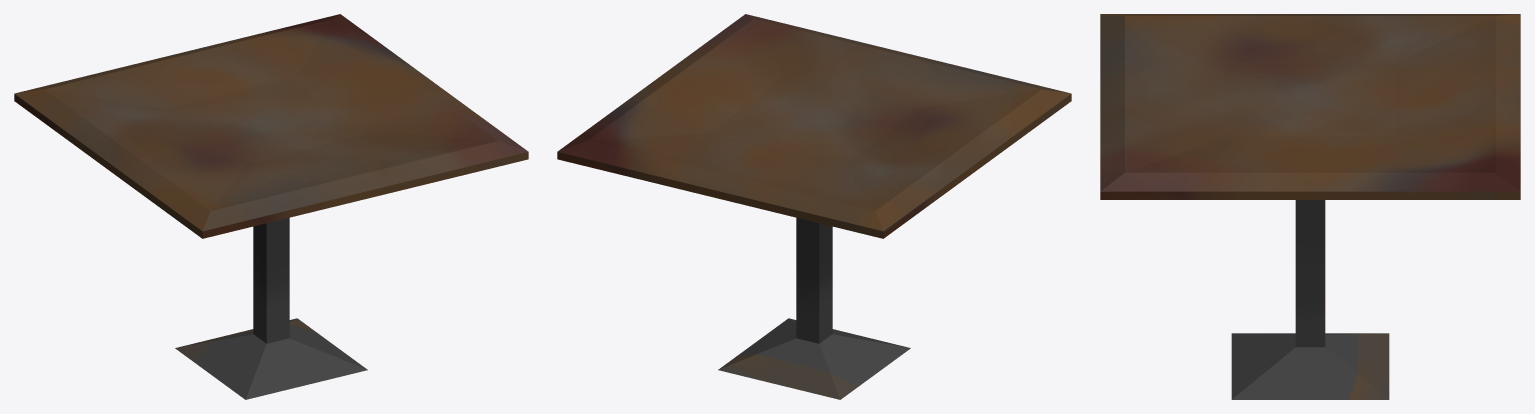
File: library-table.fbx
3 renders of one model, left to right at view 1: azimuth 30°, elevation 25°; view 2: azimuth 150°, elevation 25°; view 3: azimuth 270°, elevation 25°, orthographic. The views are drawn at different scales.
Parts seen in each view (by area): view 1: table; view 2: table; view 3: table.
Part boxes in pixels (x1,y1,x2,y2): table: (14, 14, 528, 399); table: (557, 14, 1071, 399); table: (1100, 14, 1520, 399).
Size of the model in its own units: 489 by 350 by 489.
